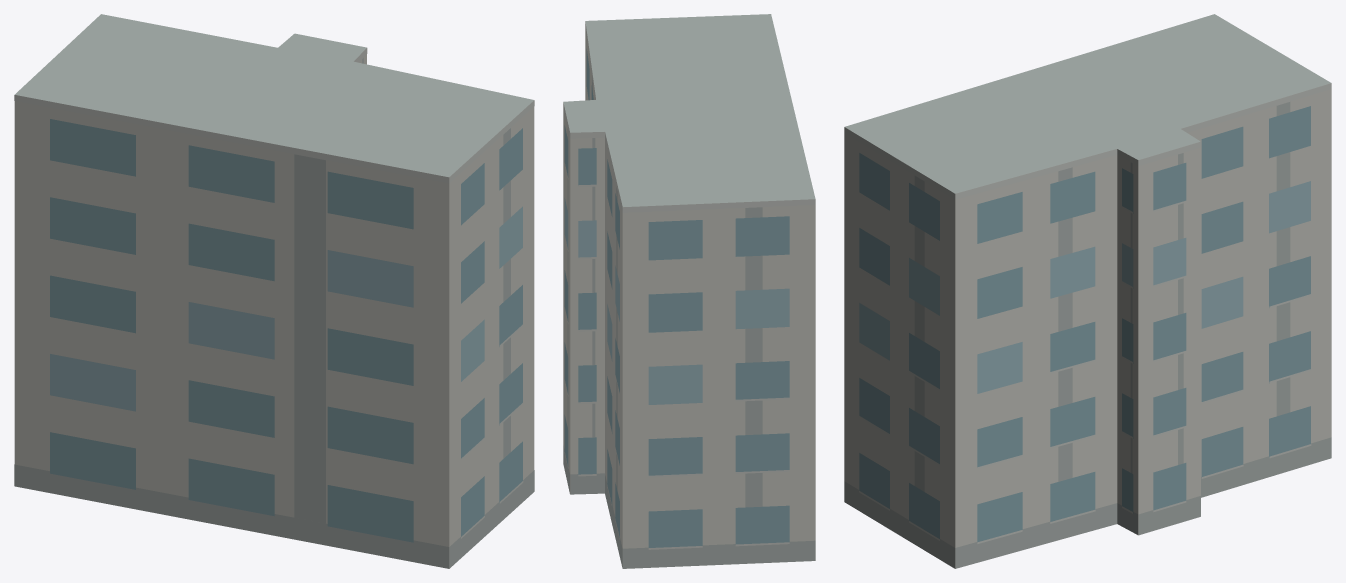
Rendered from survey-upis-32954376.glb.
The picture shows the model from 3 angles, left to right: view 1: azimuth 30°, elevation 25°; view 2: azimuth 150°, elevation 25°; view 3: azimuth 270°, elevation 25°; orthographic projection. The views are drawn at different scales.
Parts seen in each view (by area): view 1: survey-upis-32954376.tmp; view 2: survey-upis-32954376.tmp; view 3: survey-upis-32954376.tmp.
Part boxes in pixels (left/top/right/bottom): survey-upis-32954376.tmp: left=14, top=14, right=534, bottom=568; survey-upis-32954376.tmp: left=563, top=14, right=815, bottom=568; survey-upis-32954376.tmp: left=844, top=14, right=1331, bottom=568.
Bounding box in the file's own units: 15.43 × 15 × 17.67.
